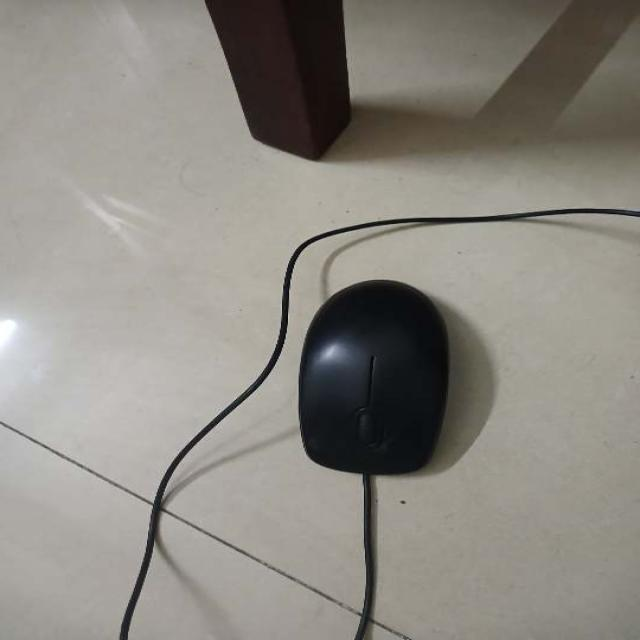mouse: (292, 270, 452, 474)
